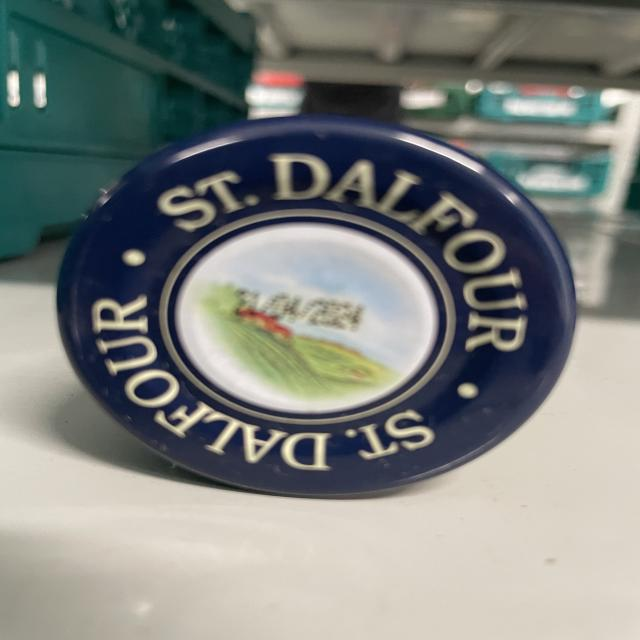object_name: (65, 132, 576, 497)
